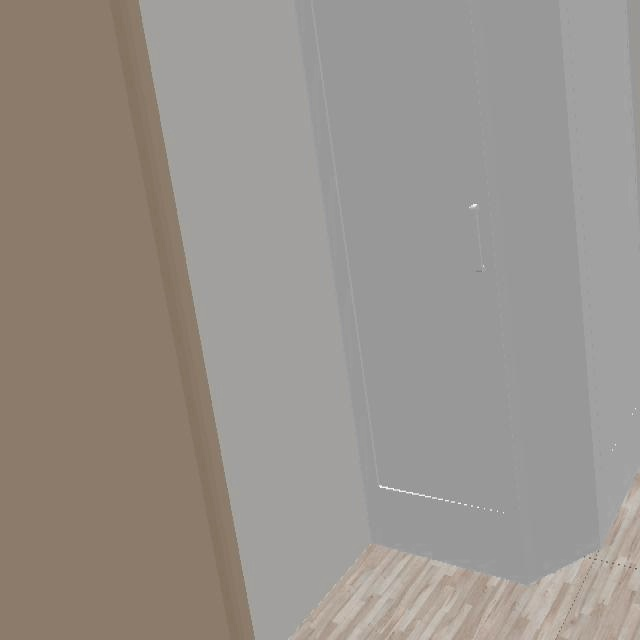shower: (297, 0, 640, 587)
